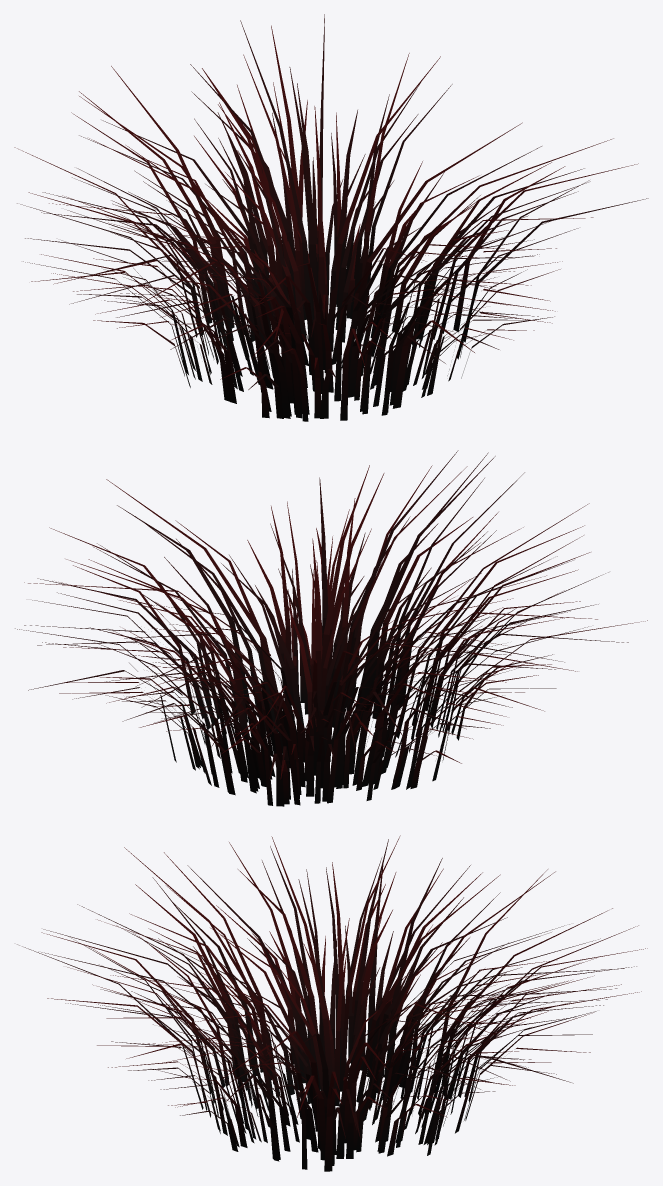
File: shade_grass_v2.fbx
3 views of the same model, one above another, from view 1: azimuth 30°, elevation 25°; view 2: azimuth 150°, elevation 25°; view 3: azimuth 270°, elevation 25° (orthographic). The views are drawn at different scales.
Parts seen in each view (by area): view 1: shade_grass_v2; view 2: shade_grass_v2; view 3: shade_grass_v2.
Boxes of the visible parts, x1,y1,x2,y2 form: shade_grass_v2: [14, 14, 648, 421]; shade_grass_v2: [15, 450, 647, 806]; shade_grass_v2: [17, 835, 647, 1171].
Size of the model in its own units: 90.22 by 34.28 by 92.85.
